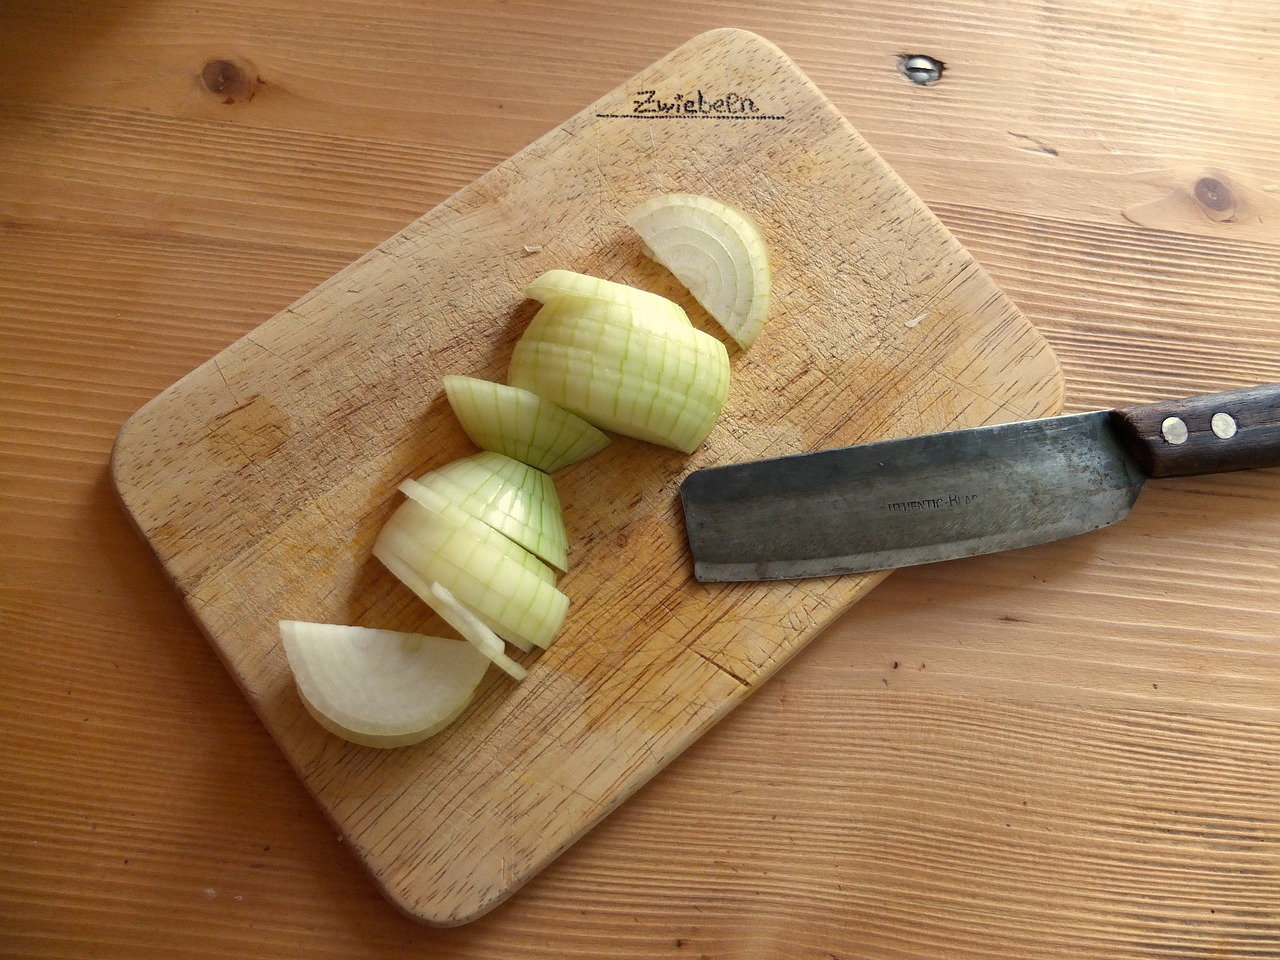knife: (672, 372, 1280, 596)
